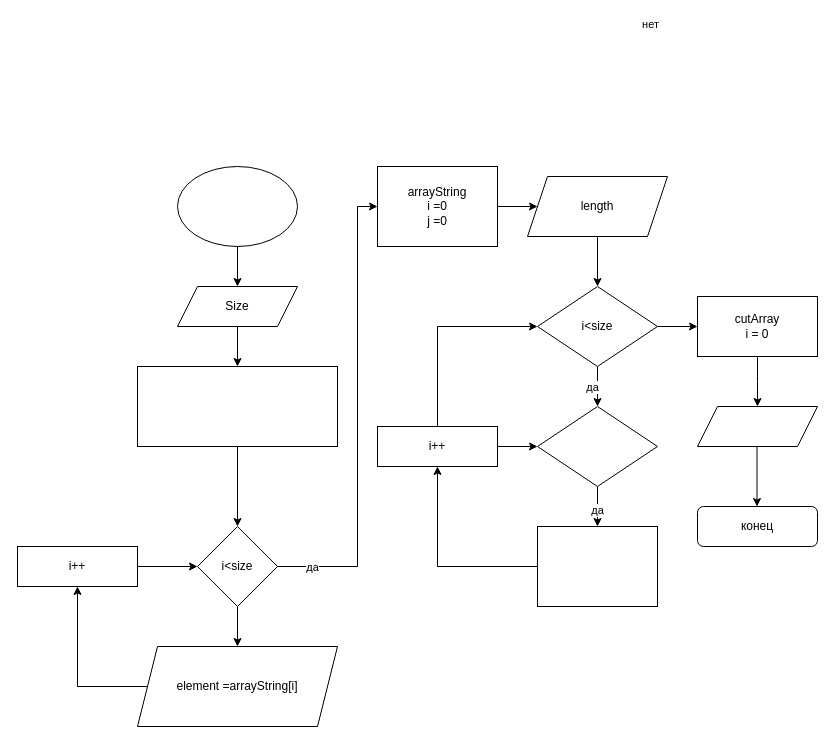
This 835x744 diagram has some shape labels left out. Here are the shapes that lost their labels. From the top down, the centre of each, then its label:
At [237,206]: "Начало".
At [237,406]: "arrayString[size] = new array int i = 0".
At [757,426]: "output".
At [597,446]: "arrayString[i] <=length".
At [597,566]: "cutArray[j] = arrayString[i] j++".
